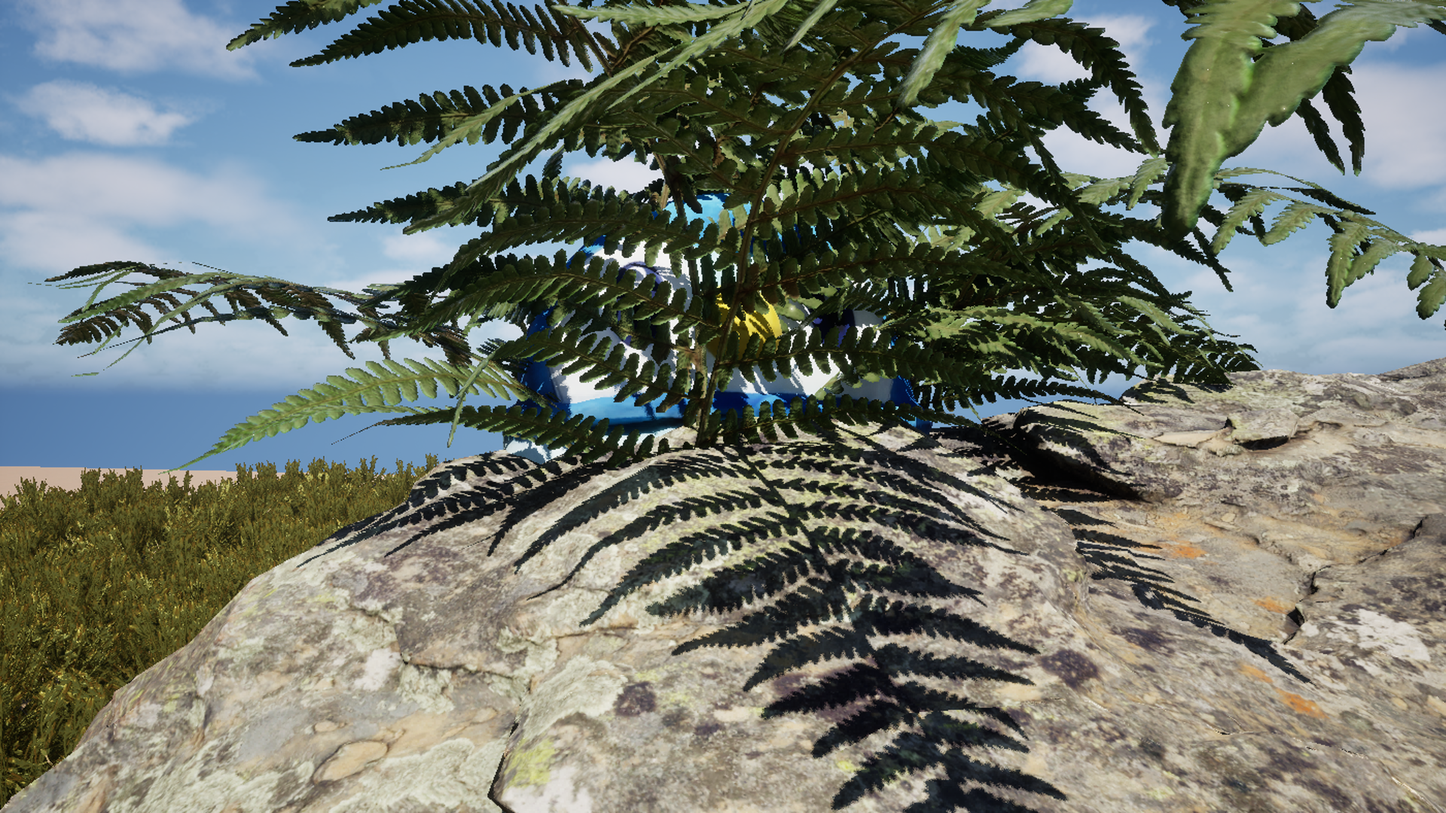Piplup: (316, 78, 1061, 735)
